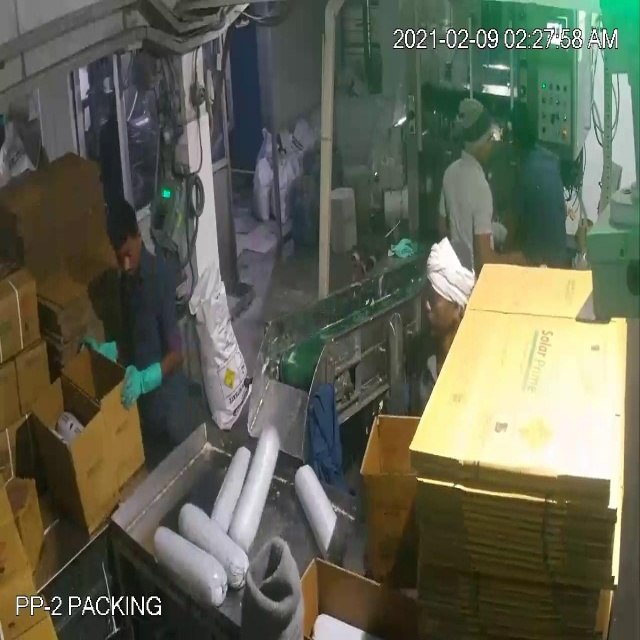Guantes: (108, 360, 172, 416), (80, 334, 123, 378)
